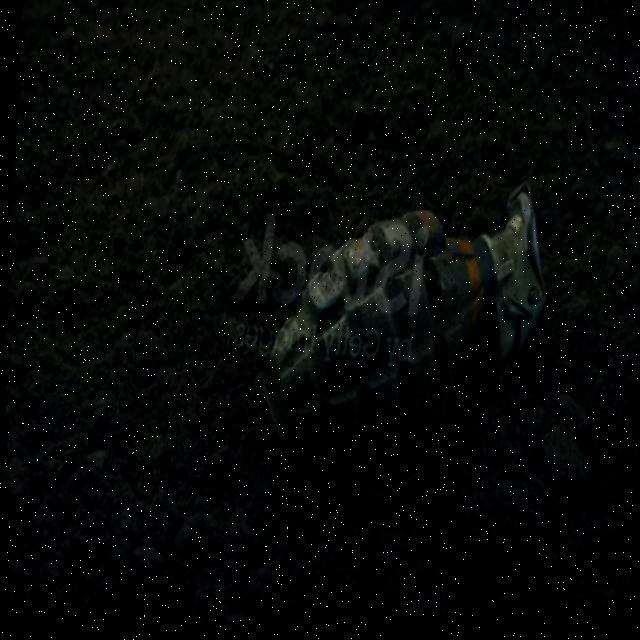grenade: (241, 148, 566, 541)
